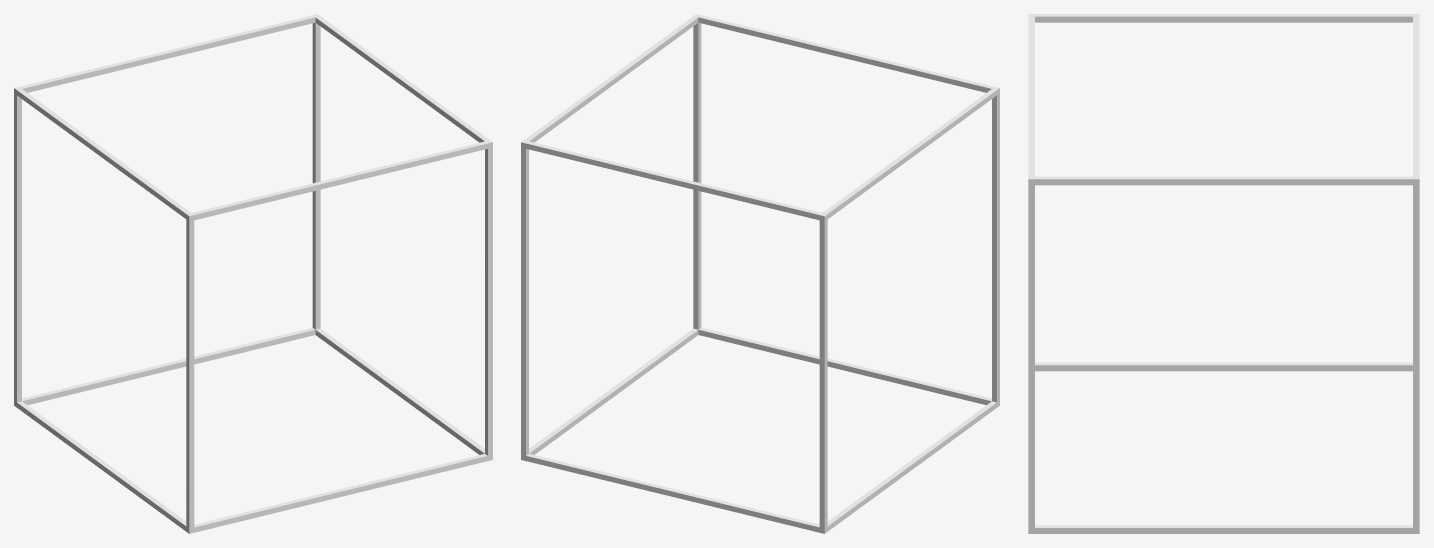
Rendered from highlight.dae.
3 renders of one model, left to right at view 1: azimuth 30°, elevation 25°; view 2: azimuth 150°, elevation 25°; view 3: azimuth 270°, elevation 25°, orthographic. The views are drawn at different scales.
Visible parts, largest first — view 1: Component_2; view 2: Component_2; view 3: Component_2.
Boxes of the visible parts, x1=… form: Component_2: x1=14, y1=14, x2=492, y2=533; Component_2: x1=521, y1=14, x2=999, y2=533; Component_2: x1=1028, y1=14, x2=1419, y2=533.
Size of the model in its own units: 2.36 by 2.36 by 2.36.
